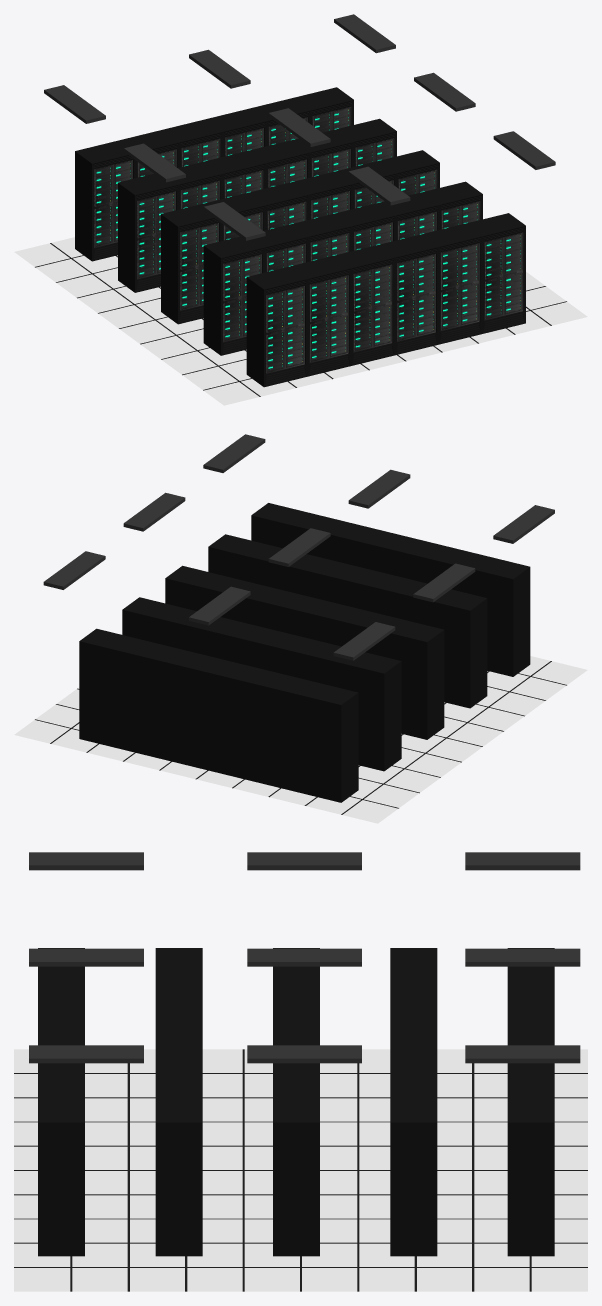
Rendered from datacenter-transformed.glb.
3 views of the same model, one above another, from view 1: azimuth 30°, elevation 25°; view 2: azimuth 150°, elevation 25°; view 3: azimuth 270°, elevation 25° (orthographic). The views are drawn at different scales.
Visible parts, largest first — view 1: Cluster, Plane.001, LampTeto.003, Plane; view 2: Cluster, Plane.001, LampTeto.003, Plane; view 3: Plane.001, Cluster, LampTeto.003, Plane.
Boxes of the visible parts, x1=… form: Cluster: x1=75, y1=87, x2=525, y2=387; Plane.001: x1=14, y1=237, x2=587, y2=405; LampTeto.003: x1=44, y1=14, x2=555, y2=240; Plane: x1=35, y1=243, x2=566, y2=396; Cluster: x1=79, y1=503, x2=530, y2=802; Plane.001: x1=14, y1=656, x2=587, y2=823; LampTeto.003: x1=43, y1=434, x2=554, y2=660; Plane: x1=35, y1=661, x2=566, y2=814; Plane.001: x1=14, y1=1049, x2=587, y2=1291; Cluster: x1=38, y1=948, x2=554, y2=1256; LampTeto.003: x1=29, y1=852, x2=580, y2=1063; Plane: x1=14, y1=1049, x2=587, y2=1291.
Size of the model in its own units: 44 by 18.2 by 44.
8 materials, 1 textured.
